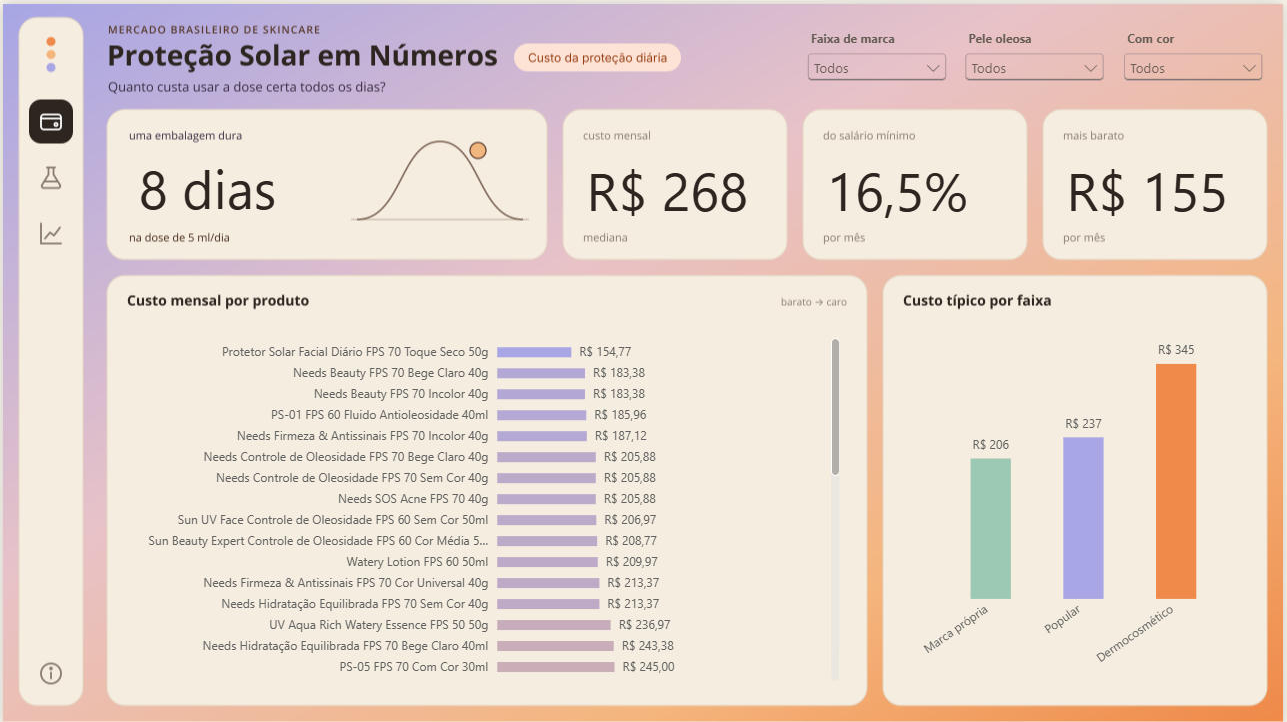

This screenshot's page, from the dashboard's own definition file:
{"tool":"powerbi","page":{"name":"Custo","canvas":[1280,720],"ordinal":0},"visuals":[{"type":"group","id":"g1","title":"Grupo 1","box":[26,98,44,596],"z":0},{"type":"barChart","fields":{"Category":["produtos.produto"],"Y":["Sum(produtos.custo_mes_recomendado)"]},"box":[116,312,736,380],"z":1000},{"type":"clusteredColumnChart","fields":{"Category":["produtos.faixa"],"Y":["produtos.Custo mensal (mediana)"]},"box":[892,312,360,380],"z":2000},{"type":"cardVisual","fields":{"Data":["produtos.Dias texto"]},"box":[120,142,300,80],"z":3000},{"type":"actionButton","title":"Sobre os dados","box":[26,650,44,44],"z":3000,"group":"g1"},{"type":"actionButton","title":"Inflação e procura","box":[26,210,44,44],"z":3125,"group":"g1"},{"type":"actionButton","title":"Preço e ativos","box":[26,154,44,44],"z":3250,"group":"g1"},{"type":"actionButton","title":"Custo","box":[26,98,44,44],"z":3500,"group":"g1"},{"type":"cardVisual","fields":{"Data":["produtos.Custo mensal (mediana)"]},"box":[568,150,208,70],"z":4000},{"type":"cardVisual","fields":{"Data":["produtos.% do salário mínimo (mediana)"]},"box":[808,150,208,70],"z":5000},{"type":"cardVisual","fields":{"Data":["produtos.Opção mais barata (R$/mês)"]},"box":[1048,150,208,70],"z":6000},{"type":"slicer","fields":{"Values":["produtos.faixa"]},"box":[800,26,148,56],"z":7000},{"type":"slicer","fields":{"Values":["produtos.pele_oleosa_ou_toque_seco"]},"box":[958,26,148,56],"z":8000},{"type":"slicer","fields":{"Values":["produtos.com_cor"]},"box":[1116,26,148,56],"z":9000}]}

Visuals, with their boxes on the page's 1280x720 design canvas (x1, y1, x2, y2). These are canvas units, not pixel positions in the 1287x722 screenshot, which may show the page scaled, cropped or inside an application window:
"Grupo 1" group: region(26, 98, 70, 694)
barChart - produtos.produto x Sum(produtos.custo_mes_recomendado): region(116, 312, 852, 692)
clusteredColumnChart - produtos.faixa x produtos.Custo mensal (mediana): region(892, 312, 1252, 692)
cardVisual - produtos.Dias texto: region(120, 142, 420, 222)
"Sobre os dados" actionButton: region(26, 650, 70, 694)
"Inflação e procura" actionButton: region(26, 210, 70, 254)
"Preço e ativos" actionButton: region(26, 154, 70, 198)
"Custo" actionButton: region(26, 98, 70, 142)
cardVisual - produtos.Custo mensal (mediana): region(568, 150, 776, 220)
cardVisual - produtos.% do salário mínimo (mediana): region(808, 150, 1016, 220)
cardVisual - produtos.Opção mais barata (R$/mês): region(1048, 150, 1256, 220)
slicer - produtos.faixa: region(800, 26, 948, 82)
slicer - produtos.pele_oleosa_ou_toque_seco: region(958, 26, 1106, 82)
slicer - produtos.com_cor: region(1116, 26, 1264, 82)
